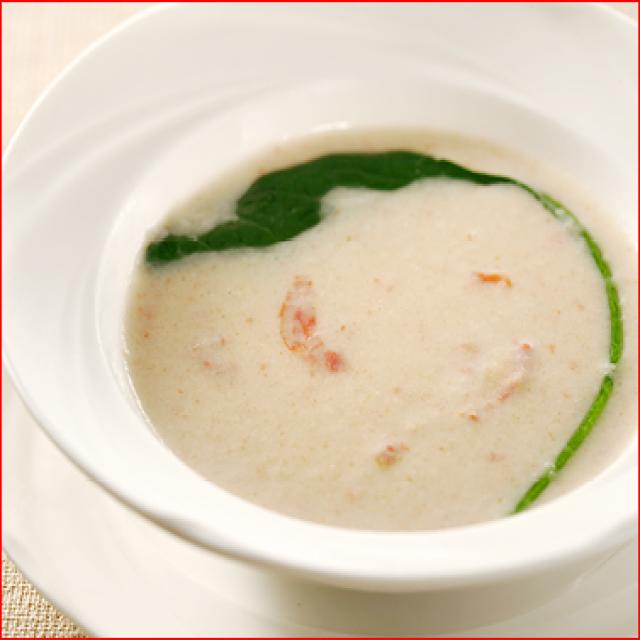汤锅炖物: (1, 2, 632, 629)
